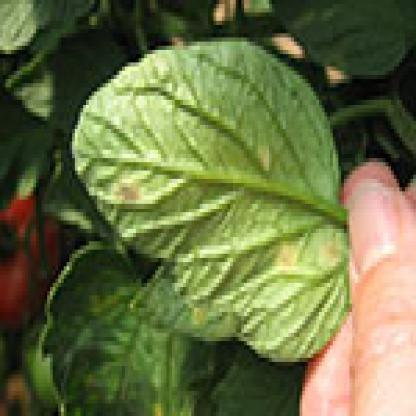Tomato mold leaf: (61, 37, 355, 379)
